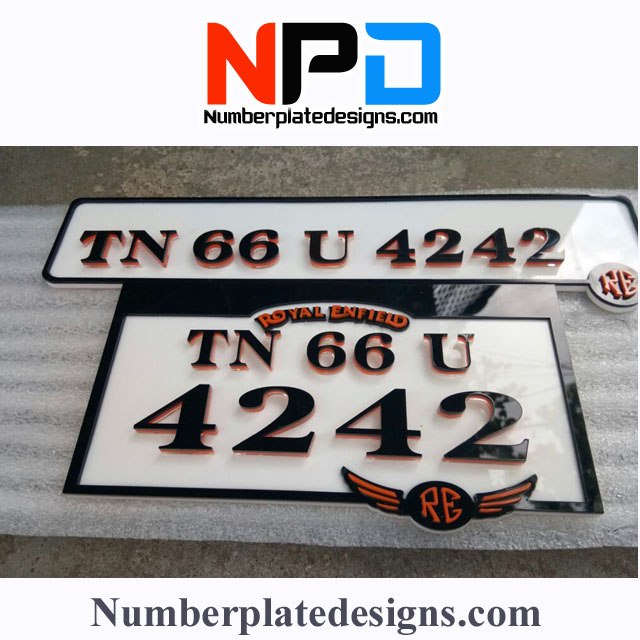number_plate: (63, 301, 612, 533), (43, 190, 640, 294)
